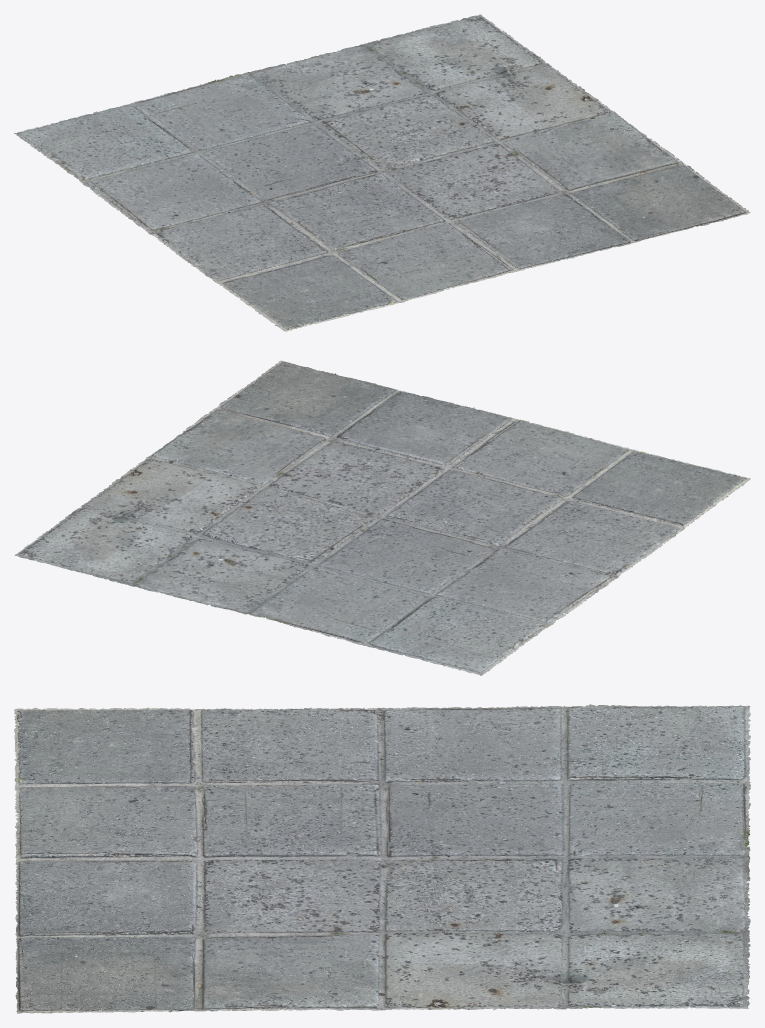
The model's file is scene_centered.gltf.
3 views of the same model, one above another, from view 1: azimuth 30°, elevation 25°; view 2: azimuth 150°, elevation 25°; view 3: azimuth 270°, elevation 25° (orthographic). The views are drawn at different scales.
Visible parts, largest first — view 1: Mesh_0.001; view 2: Mesh_0.001; view 3: Mesh_0.001.
Boxes of the visible parts, x1,y1,x2,y2 form: Mesh_0.001: [14, 14, 750, 331]; Mesh_0.001: [14, 360, 750, 675]; Mesh_0.001: [14, 704, 750, 1013].
Bounding box in the file's own units: 23.2 × 0.4381 × 23.11.
1 material, 1 textured.
